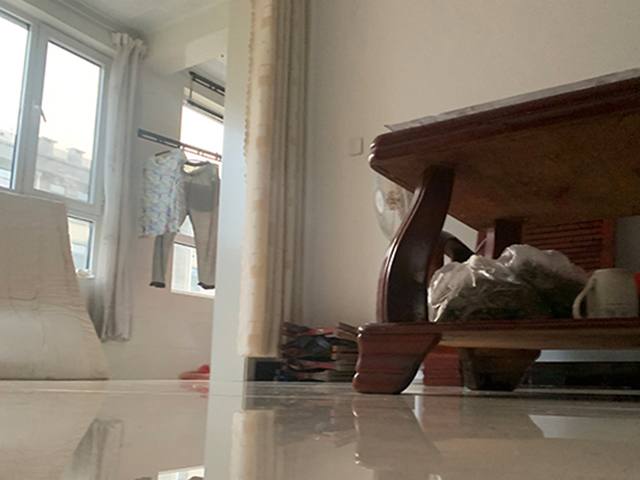curtain: (237, 1, 306, 359)
stool: (274, 321, 357, 383)
table: (352, 74, 640, 397)
